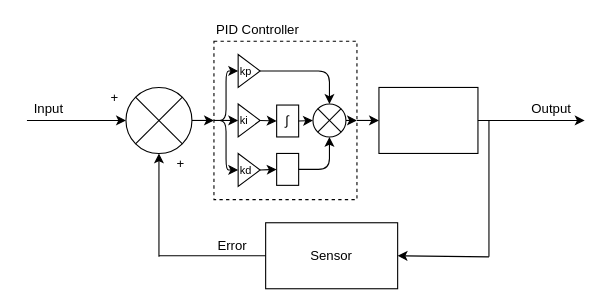
Some shapes in this 613 by 308 pixel diagram are drawn without their labels. The shapes that lost their labels are listed below. From the top down, each one's centre as x and y in pixels, then its label:
At point (428, 119): "Plant".
At point (287, 168): "dx".
